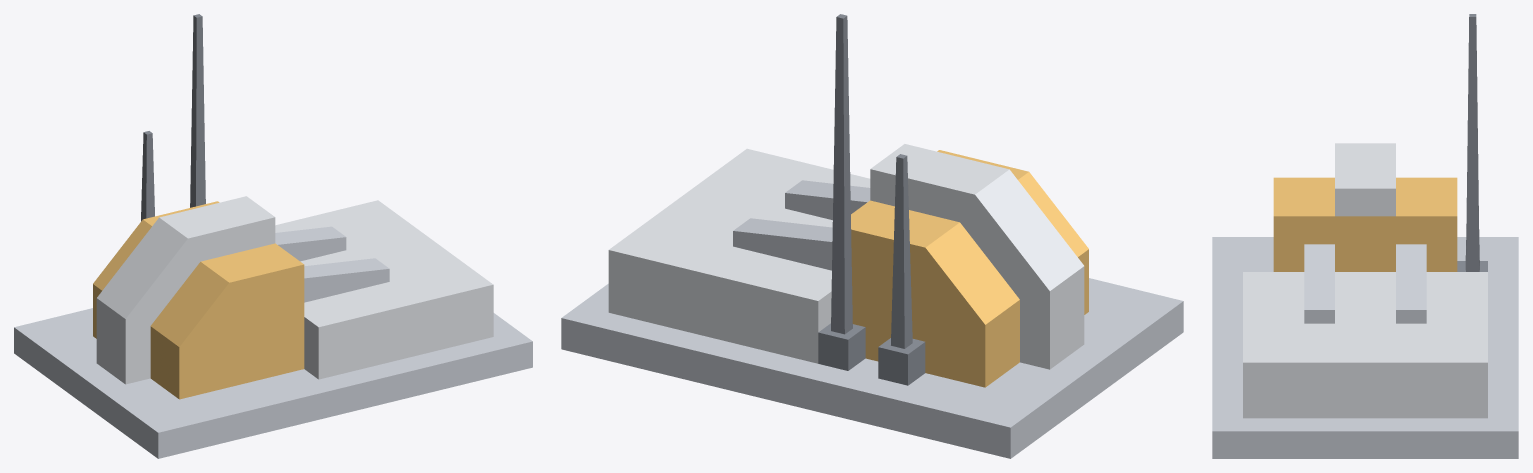
File: machine_wireless.glb
3 renders of one model, left to right at view 1: azimuth 30°, elevation 25°; view 2: azimuth 150°, elevation 25°; view 3: azimuth 270°, elevation 25°, orthographic. The views are drawn at different scales.
Parts seen in each view (by area): view 1: machine_wireless; view 2: machine_wireless; view 3: machine_wireless.
Boxes of the visible parts, x1=… form: machine_wireless: x1=14, y1=14, x2=532, y2=458; machine_wireless: x1=561, y1=14, x2=1183, y2=458; machine_wireless: x1=1212, y1=14, x2=1518, y2=458.
Bounding box in the file's own units: 0.75 × 0.6 × 0.5.
